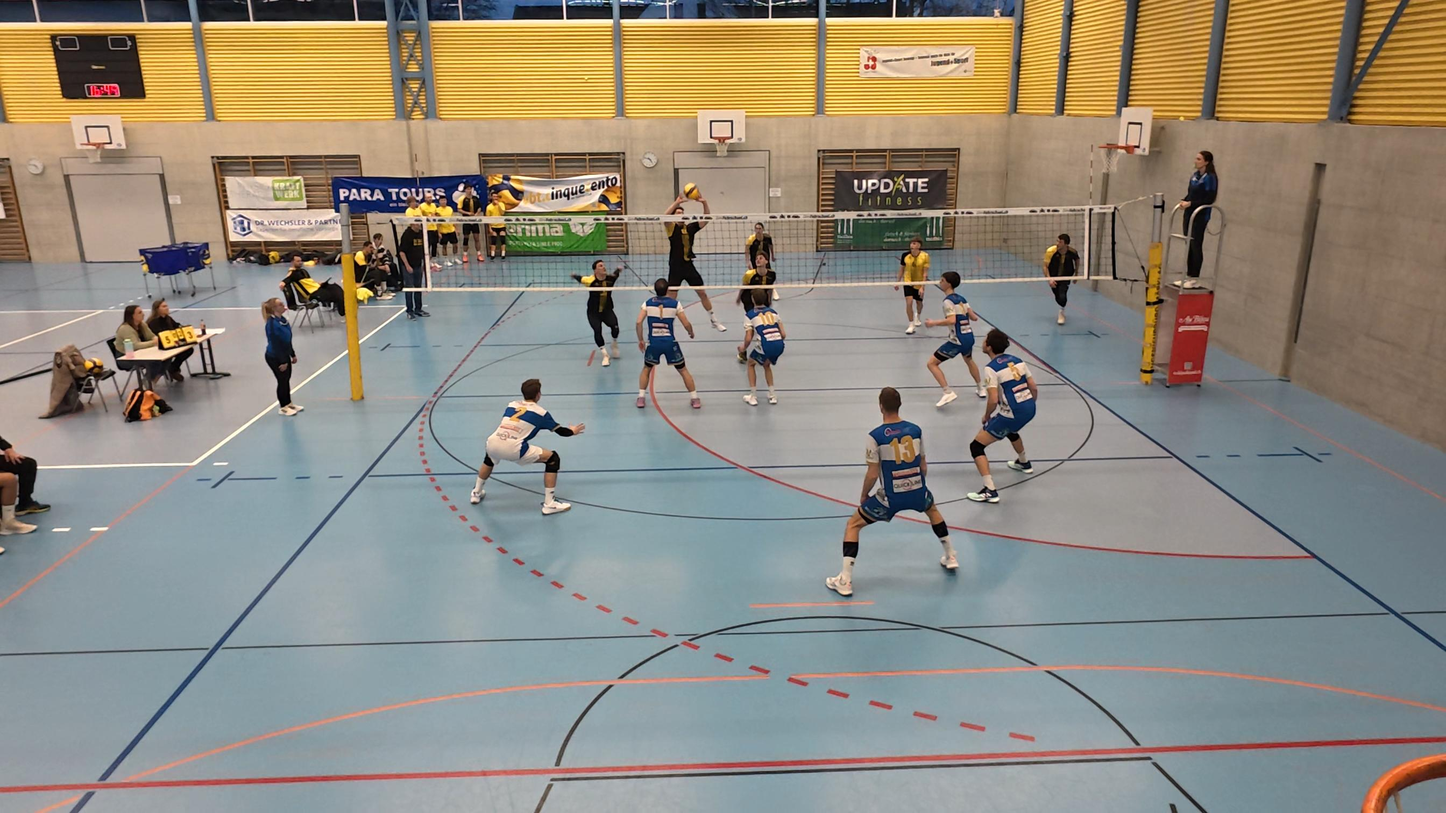Player: (827, 388, 960, 595), (470, 379, 582, 513), (968, 330, 1039, 502), (634, 283, 704, 411), (923, 286, 983, 409), (737, 297, 786, 405), (580, 257, 624, 366), (1043, 233, 1080, 326), (898, 235, 932, 333), (736, 257, 772, 337), (744, 220, 775, 281)
Set: (656, 197, 729, 335)
ball: (681, 183, 698, 195)
